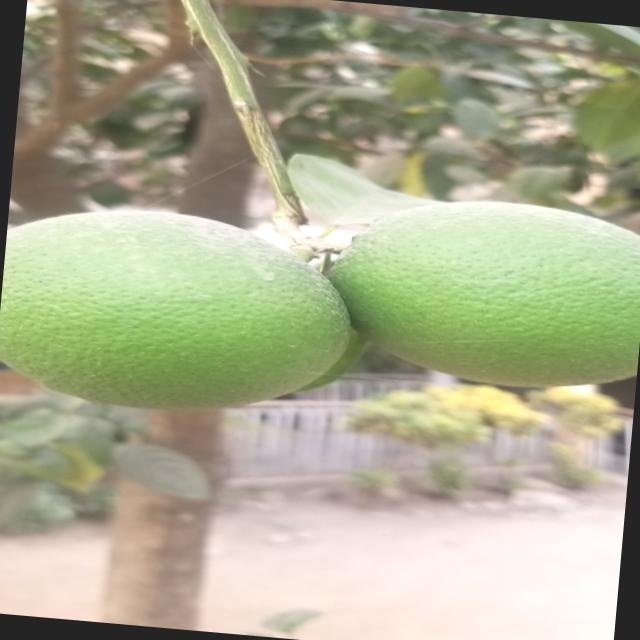agrume: (0, 194, 367, 428), (338, 191, 640, 397)
